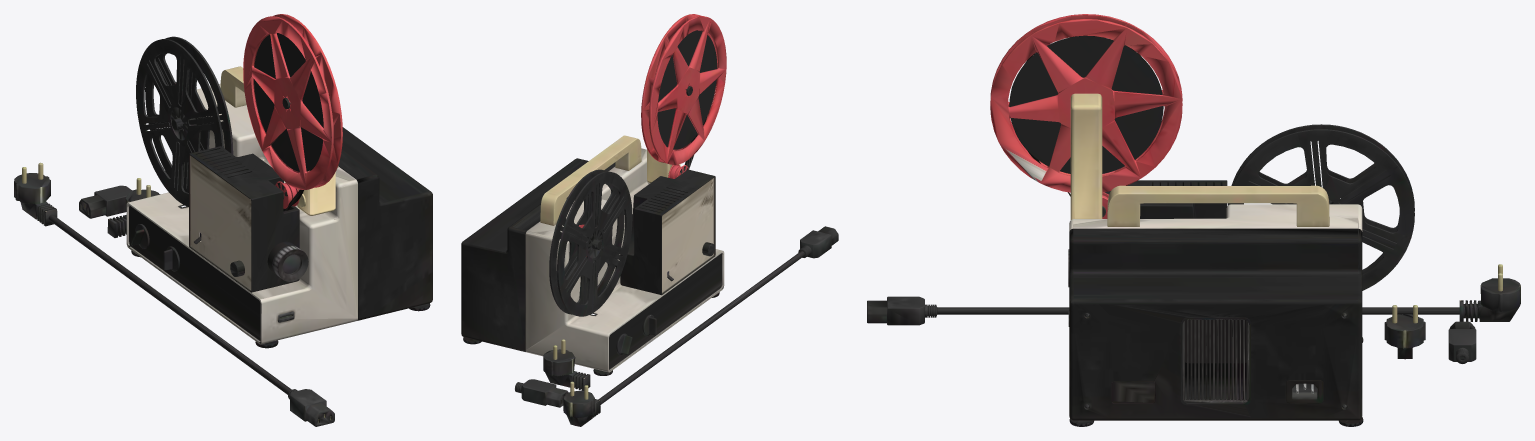
File: filmstrip-projector-8mm.glb
3 views of the same model, side by side, from view 1: azimuth 30°, elevation 25°; view 2: azimuth 150°, elevation 25°; view 3: azimuth 270°, elevation 25° (orthographic). The views are drawn at different scales.
Visible parts, largest first — view 1: filmstrip_projector_8mm; view 2: filmstrip_projector_8mm; view 3: filmstrip_projector_8mm.
Boxes of the visible parts, <box> form: filmstrip_projector_8mm: <box>14,14,432,426</box>; filmstrip_projector_8mm: <box>461,14,838,426</box>; filmstrip_projector_8mm: <box>867,14,1520,426</box>.
Size of the model in its own units: 0.2537 by 0.3454 by 0.6026.
Materials: 2 (2 with a texture image).
